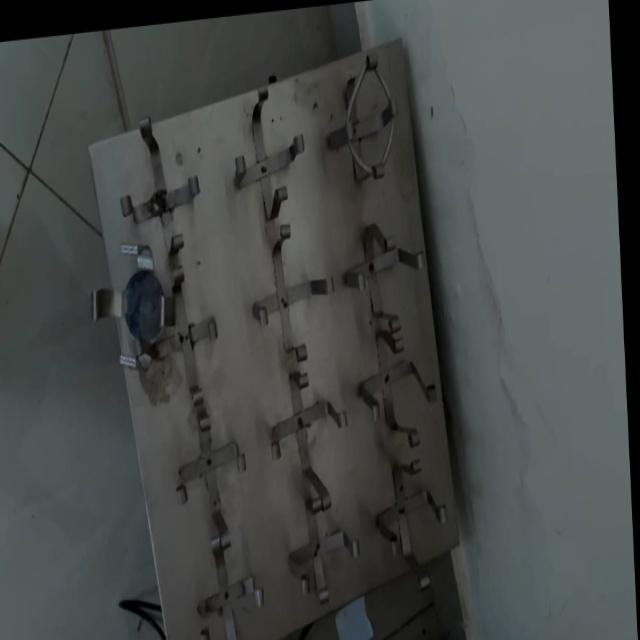Rotary Shaker: (97, 20, 462, 640)
